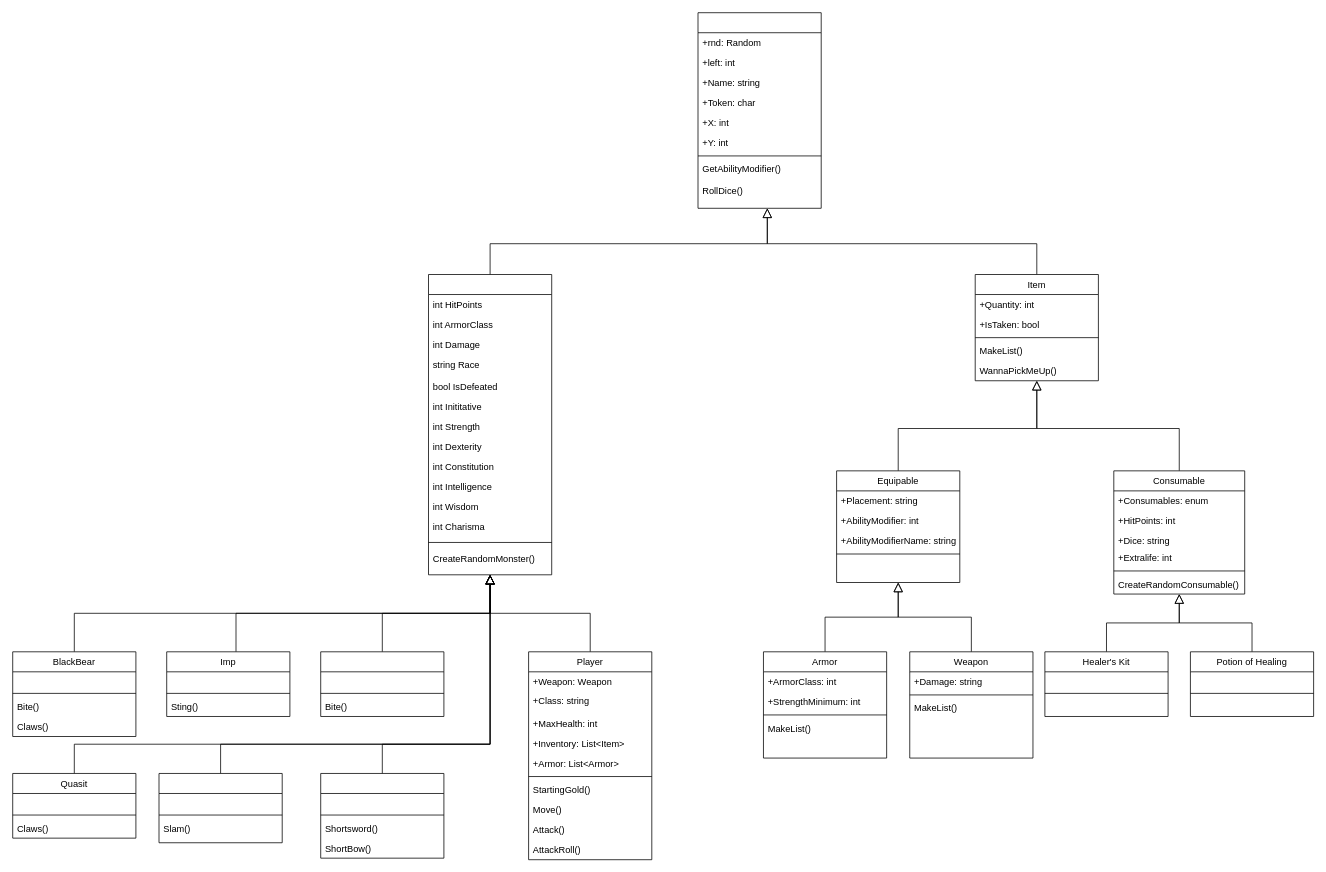
Some shapes in this 1326 by 872 pixel diagram are drawn without their labels. Here are the shapes that lost their labels. From the top down, the box of each, then its label:
(697, 12, 821, 208): Entity
(428, 274, 552, 575): Creature
(320, 651, 444, 716): Bat
(158, 773, 282, 843): Zombie
(320, 773, 444, 858): Skeleton
